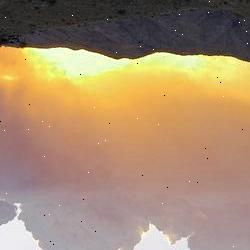fire: (15, 40, 249, 82)
